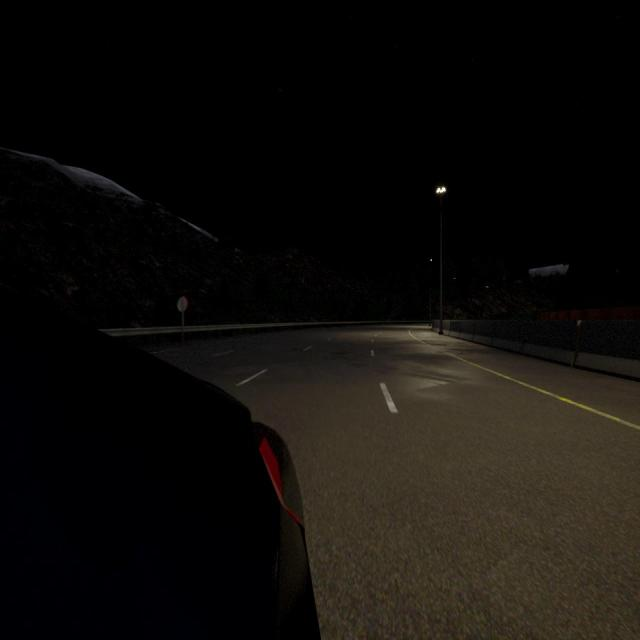Traffic_Signs: (177, 296, 188, 312)
Vehicle: (0, 287, 318, 640)
